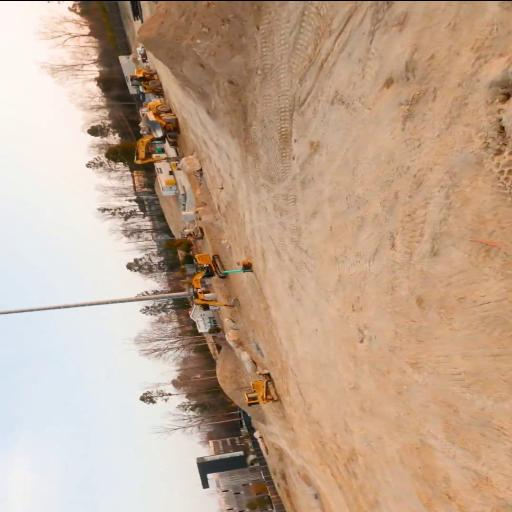uav: (216, 182, 226, 194)
